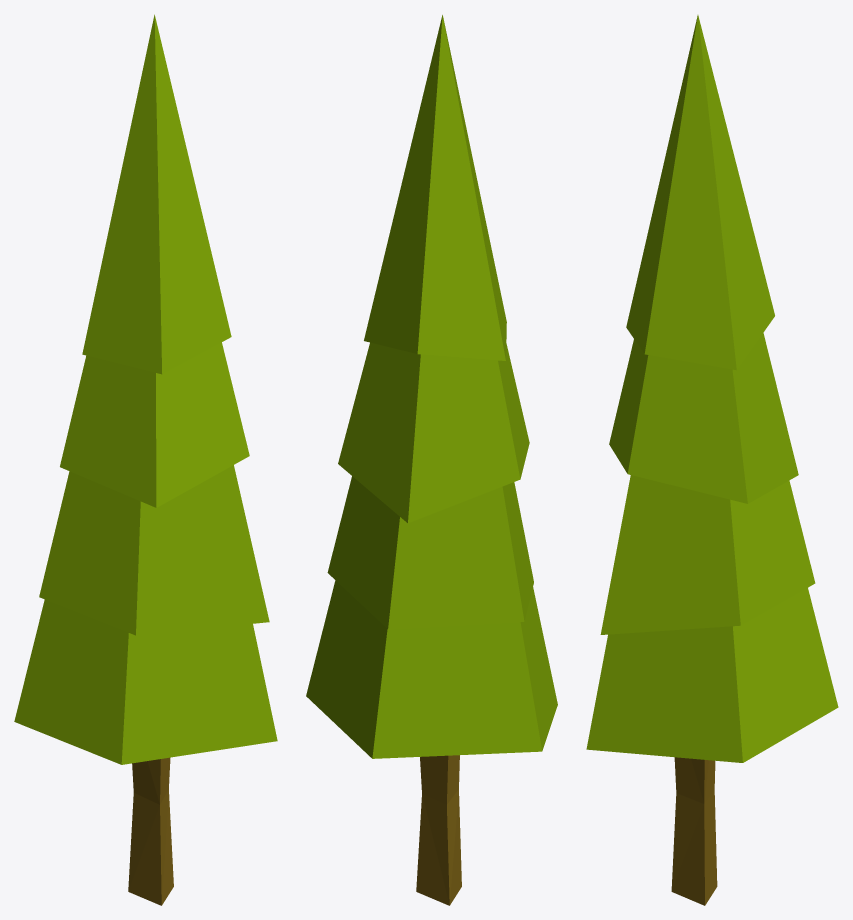
File: tree-1.dae
The picture shows the model from 3 angles, left to right: view 1: azimuth 30°, elevation 25°; view 2: azimuth 150°, elevation 25°; view 3: azimuth 270°, elevation 25°; orthographic projection.
Visible parts, largest first — view 1: Crown-1, Crown-2, Crown-4, Crown-3, Bole; view 2: Crown-1, Crown-4, Crown-3, Crown-2, Bole; view 3: Crown-1, Crown-4, Crown-2, Crown-3, Bole.
Part boxes in pixels (x1,y1,x2,y2): Crown-1: [14, 599, 277, 764]; Crown-2: [39, 465, 269, 635]; Crown-4: [82, 14, 231, 374]; Crown-3: [60, 342, 249, 507]; Bole: [128, 757, 173, 905]; Crown-1: [306, 580, 557, 758]; Crown-4: [364, 15, 506, 360]; Crown-3: [338, 342, 529, 523]; Crown-2: [327, 476, 533, 629]; Bole: [416, 755, 461, 905]; Crown-1: [586, 588, 838, 762]; Crown-4: [626, 15, 774, 370]; Crown-2: [600, 475, 815, 634]; Crown-3: [609, 333, 798, 503]; Bole: [671, 757, 717, 905].
Size of the model in its own units: 1.24 by 1.15 by 4.44.
